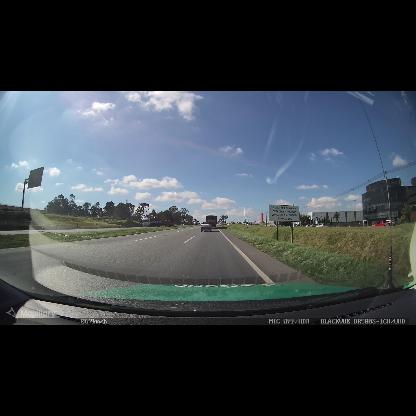I-SA: (269, 204, 300, 222)
